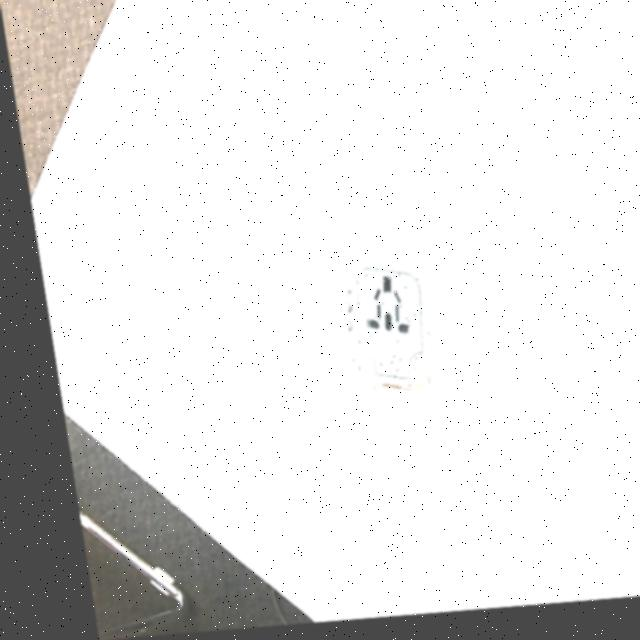adapter: (327, 264, 426, 397)
